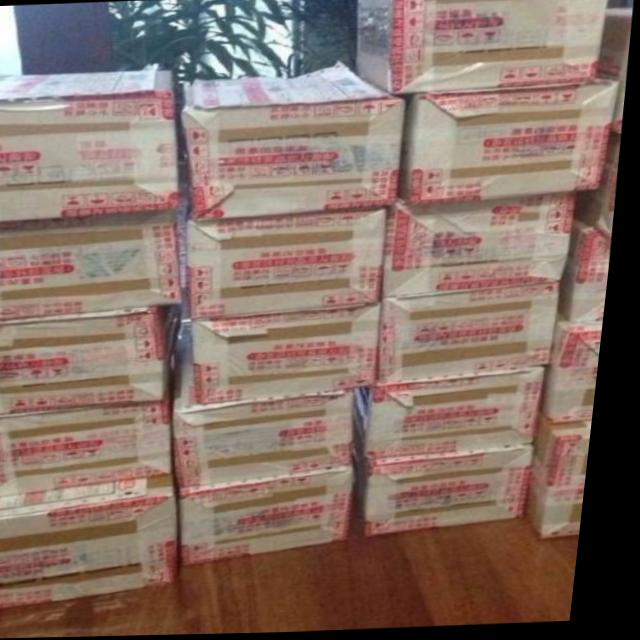box: (184, 63, 404, 219), (180, 323, 363, 492), (0, 68, 183, 225), (405, 78, 625, 205), (0, 471, 193, 609), (356, 0, 605, 97), (0, 200, 194, 323), (196, 206, 394, 320), (0, 304, 189, 415), (391, 193, 585, 301), (385, 280, 567, 386), (200, 304, 391, 404), (360, 367, 553, 459), (0, 398, 183, 494), (189, 467, 369, 564), (363, 446, 544, 537), (533, 413, 602, 539), (551, 306, 610, 426), (565, 215, 613, 323), (583, 135, 621, 238), (604, 8, 632, 136)
